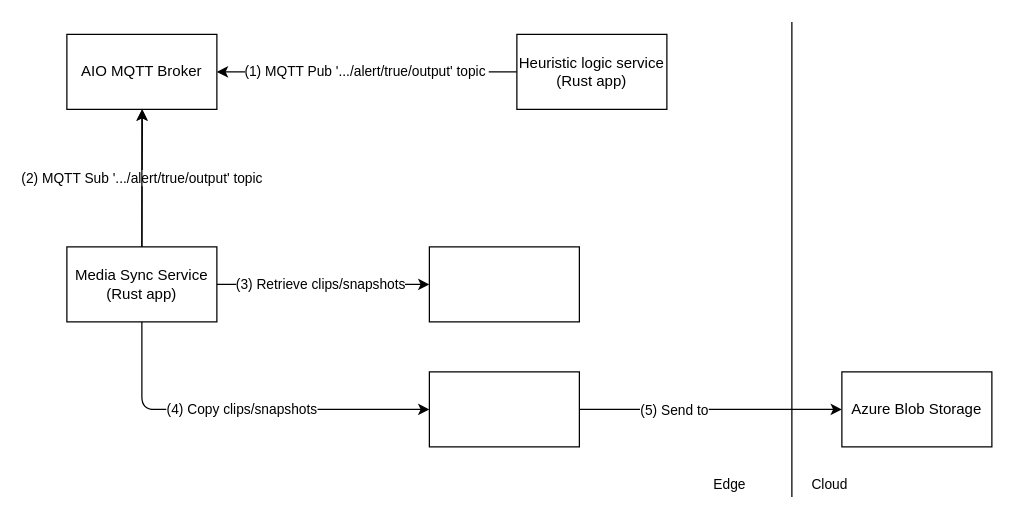
The diagram is 1014 pixels wide and 525 high, and some of its shapes have lost their labels. Each missing label, with the centre of its shape:
"ACSA Cloud-backed PV" goes at point 503,409.
"ACSA Unbacked PV" goes at point 503,284.
